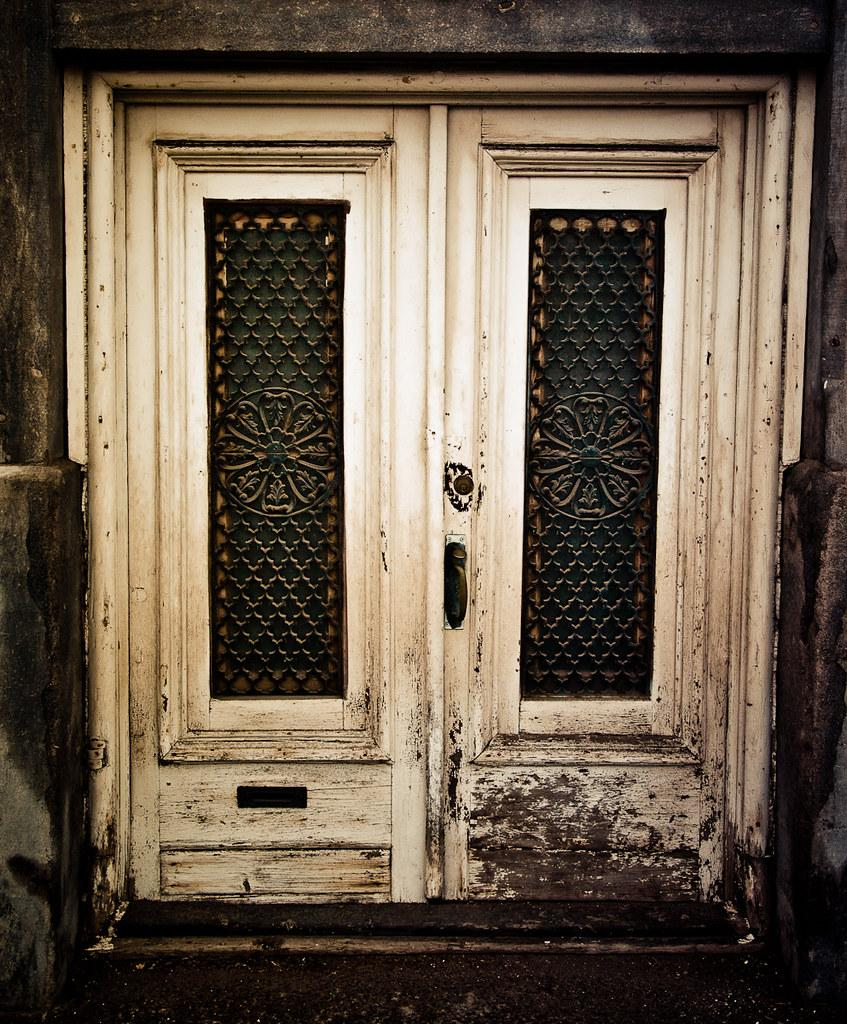door: (84, 68, 784, 930)
